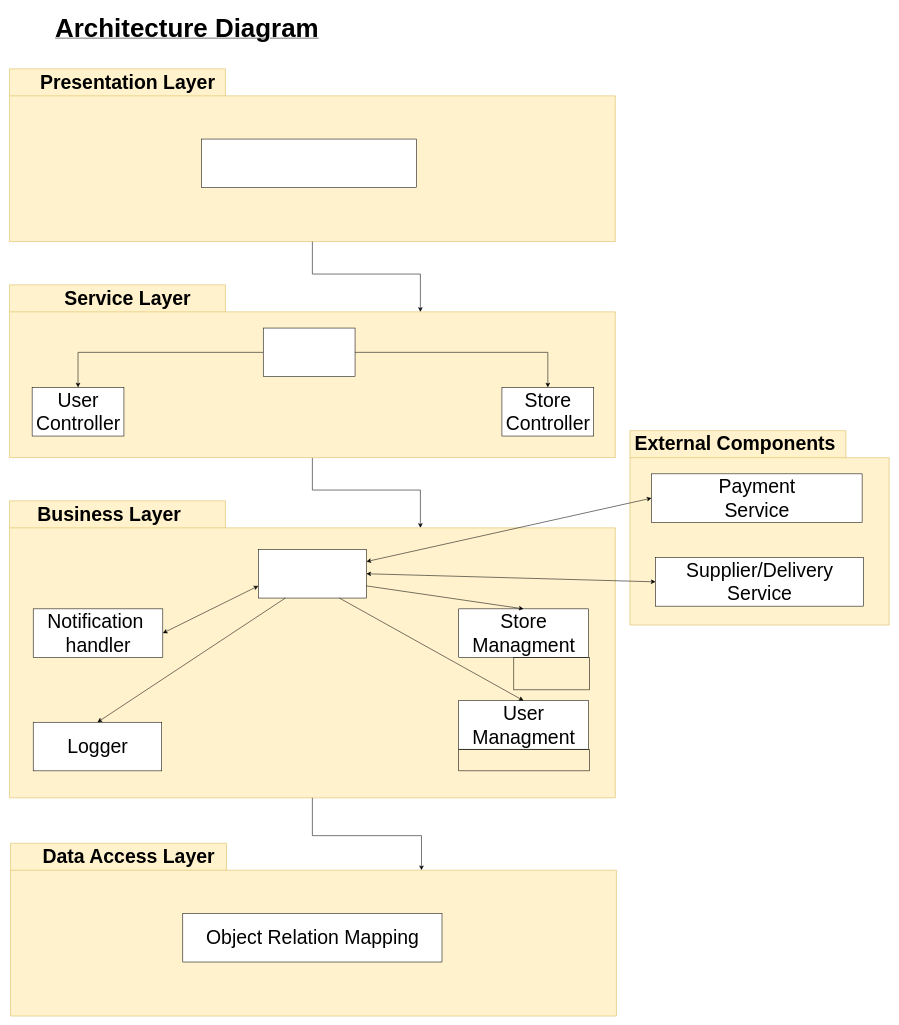
Some shapes in this 899 by 1025 pixel diagram are drawn without their labels. The centre of each missing label's shape, as x and y in pixels:
"Big Controller" belongs at [309,352].
"Graphic User Interface" belongs at [309,163].
"Including Login, Logout, Register, etc." belongs at [523,760].
"Including OpeningStore, EditStore, etc ." belongs at [551,673].
"Market" belongs at [312,573].
